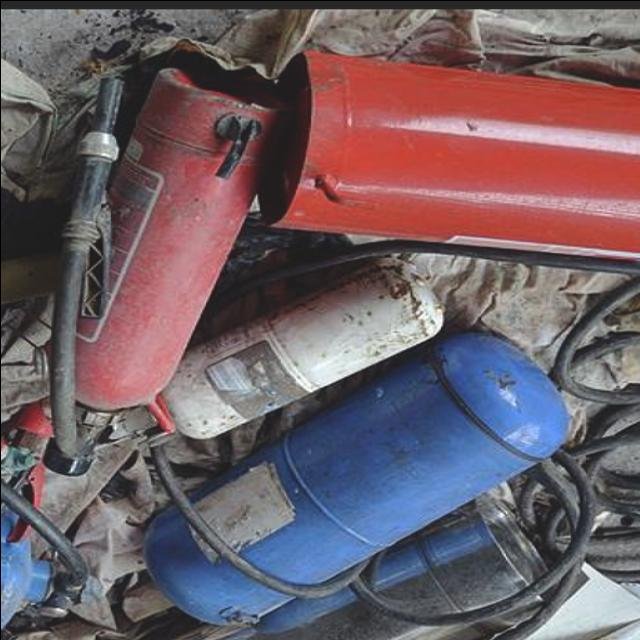cylinder: (144, 338, 569, 627), (41, 59, 294, 475)
